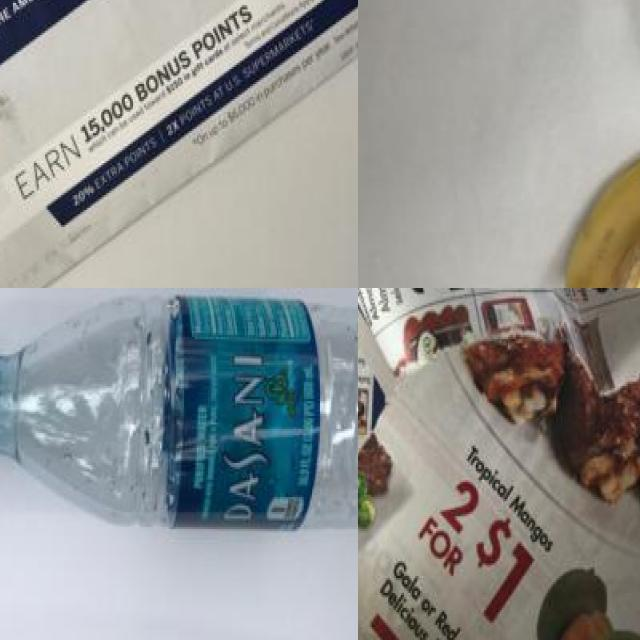compost: (517, 0, 640, 288)
paper: (0, 0, 358, 288), (358, 288, 640, 640)
plastic: (0, 294, 358, 537)
